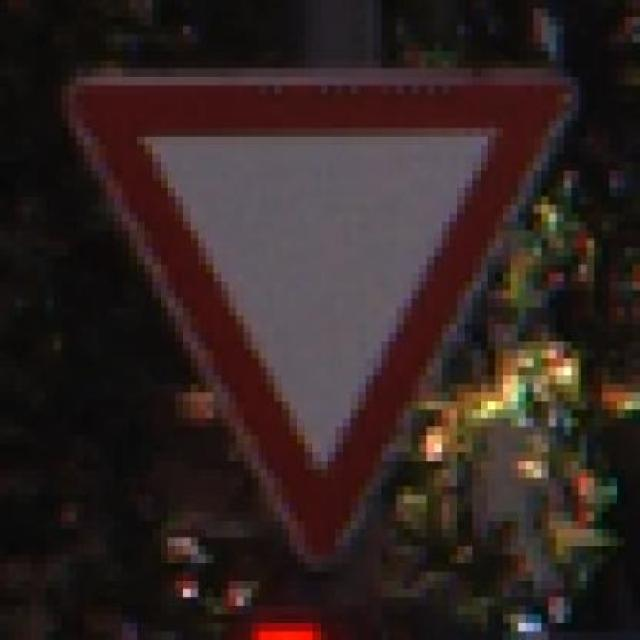Give Way: (61, 59, 572, 572)
